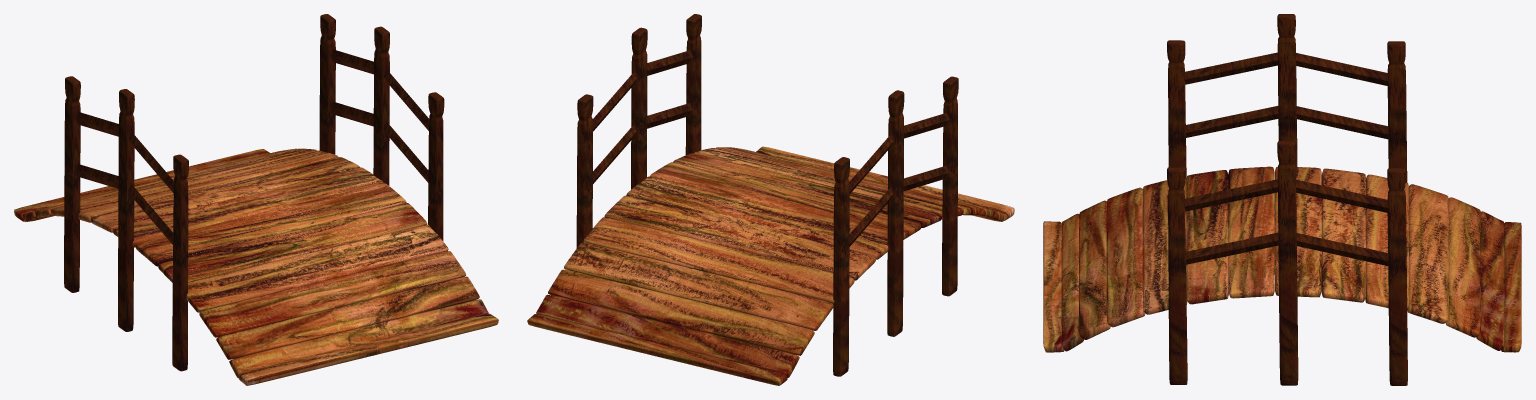
Rendered from trythisbridgeFinal.fbx.
3 views of the same model, side by side, from view 1: azimuth 30°, elevation 25°; view 2: azimuth 150°, elevation 25°; view 3: azimuth 270°, elevation 25° (orthographic).
Parts seen in each view (by area): view 1: Cube, Cube.001, Cube.002, Circle.002, Circle.001; view 2: Cube, Cube.001, Cube.002, Circle.002, Circle.001; view 3: Cube, Cube.002, Cube.001, Circle.001, Circle.002.
Boxes of the visible parts, x1,y1,x2,y2 form: Cube: (14,148,498,385); Cube.001: (64,76,188,371); Cube.002: (319,14,444,240); Circle.002: (75,112,173,244); Circle.001: (330,49,428,182); Cube: (527,146,1014,385); Cube.001: (833,76,958,376); Cube.002: (576,14,701,247); Circle.002: (849,113,949,246); Circle.001: (593,50,692,183); Cube: (1043,166,1521,352); Cube.002: (1167,140,1407,385); Cube.001: (1167,14,1407,182); Circle.001: (1185,179,1388,265); Circle.002: (1185,52,1388,139).
Size of the model in its own units: 1102 by 951 by 1698.
2 materials, 2 textured.
